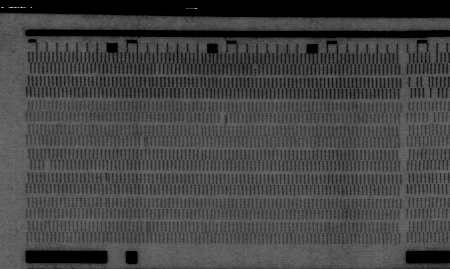Broken hole: (408, 75, 430, 87), (423, 86, 440, 100), (426, 111, 438, 123), (218, 111, 228, 125), (42, 160, 53, 172)
Oblique printing: (250, 64, 262, 78), (137, 136, 149, 149), (139, 222, 152, 233), (100, 172, 110, 184)
